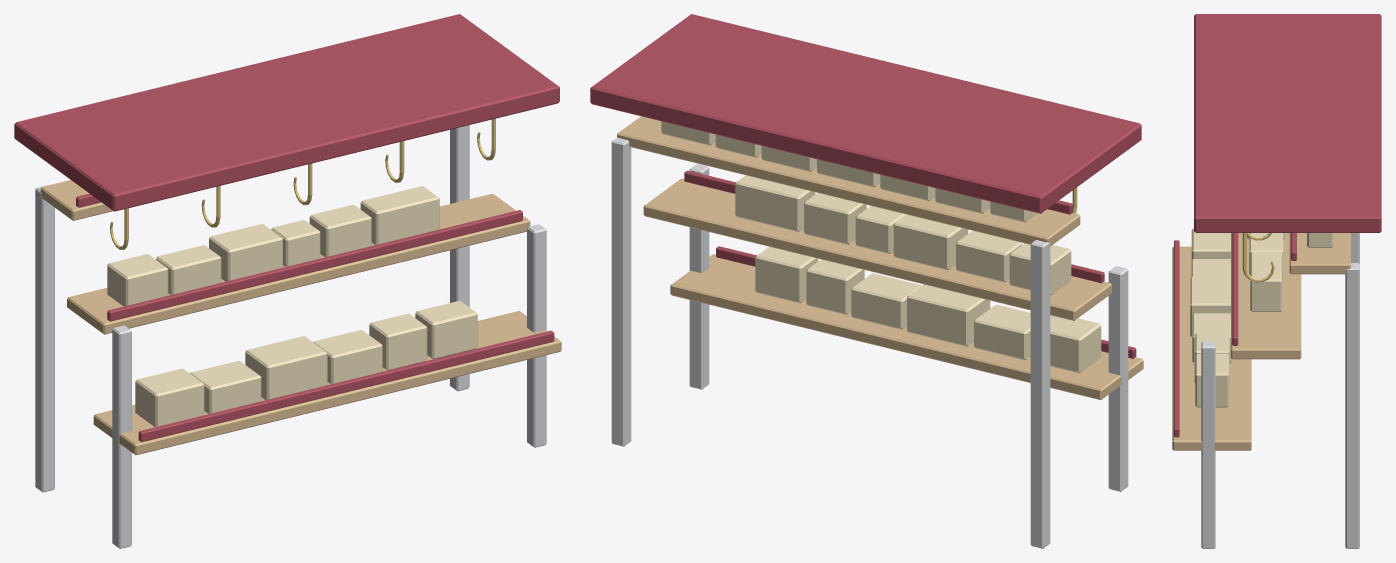
Rendered from butchers-shop-and-deli-counter-window-display-shelf-1f292e47__34438.glb.
3 renders of one model, left to right at view 1: azimuth 30°, elevation 25°; view 2: azimuth 150°, elevation 25°; view 3: azimuth 270°, elevation 25°, orthographic. The views are drawn at different scales.
Visible parts, largest first — view 1: window-display-shelf; view 2: window-display-shelf; view 3: window-display-shelf.
Boxes of the visible parts, x1,y1,x2,y2 form: window-display-shelf: (14, 14, 561, 548); window-display-shelf: (590, 14, 1143, 548); window-display-shelf: (1172, 14, 1381, 548).
Bounding box in the file's own units: 1.34 × 1.03 × 0.58.
